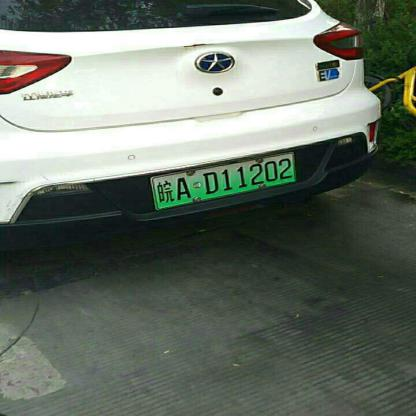lp: (151, 152, 298, 209)
